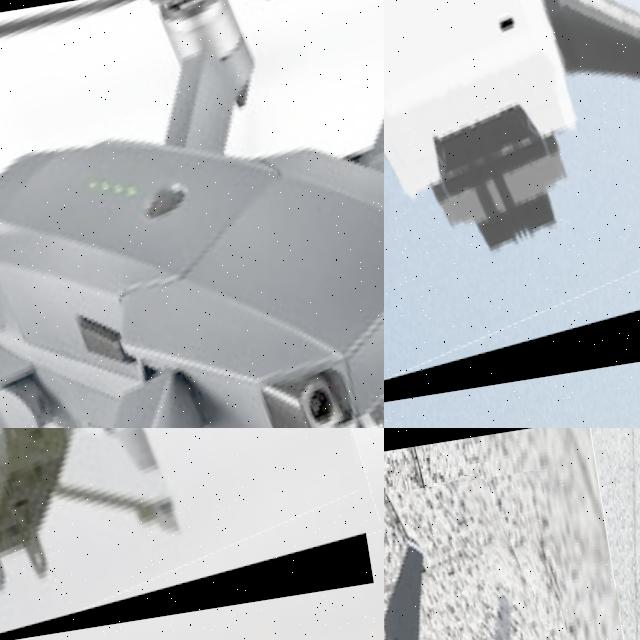drone: (0, 0, 384, 428), (384, 0, 640, 428), (0, 428, 374, 640), (384, 469, 634, 640)
